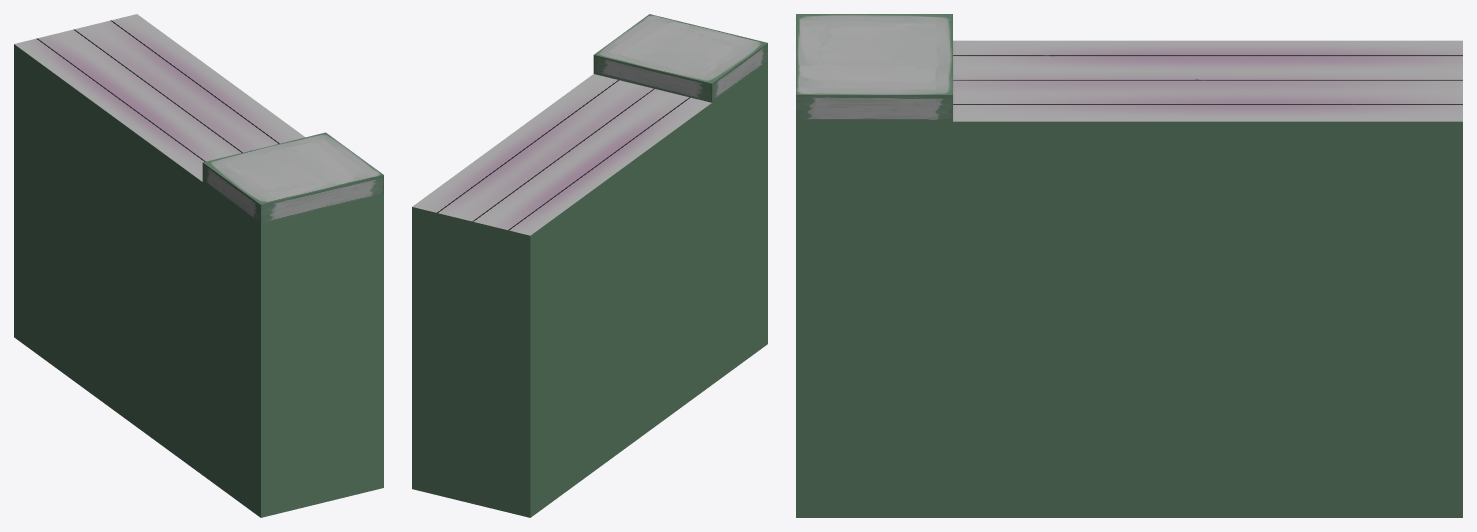
Rendered from bossbot-wall.fbx.
3 renders of one model, left to right at view 1: azimuth 30°, elevation 25°; view 2: azimuth 150°, elevation 25°; view 3: azimuth 270°, elevation 25°, orthographic. The views are drawn at different scales.
Parts seen in each view (by area): view 1: BOSS-stg; view 2: BOSS-stg; view 3: BOSS-stg.
Boxes of the visible parts, box(x1,y1,x2,y2) form: BOSS-stg: box(14, 14, 383, 517); BOSS-stg: box(412, 14, 767, 517); BOSS-stg: box(796, 14, 1462, 517).
Size of the model in its own units: 2329 by 5658 by 8088.
1 material, 1 textured.
